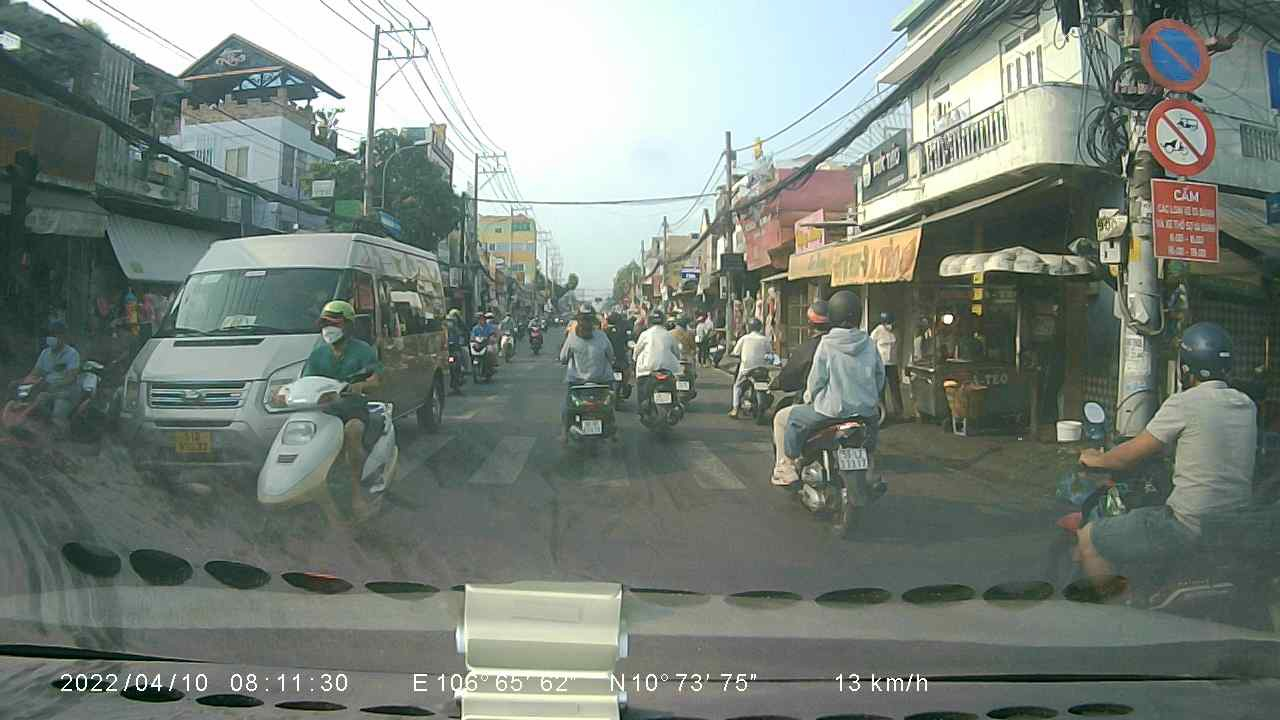Bien khac: (1143, 95, 1220, 174)
Cam do xe: (1133, 15, 1214, 94)
